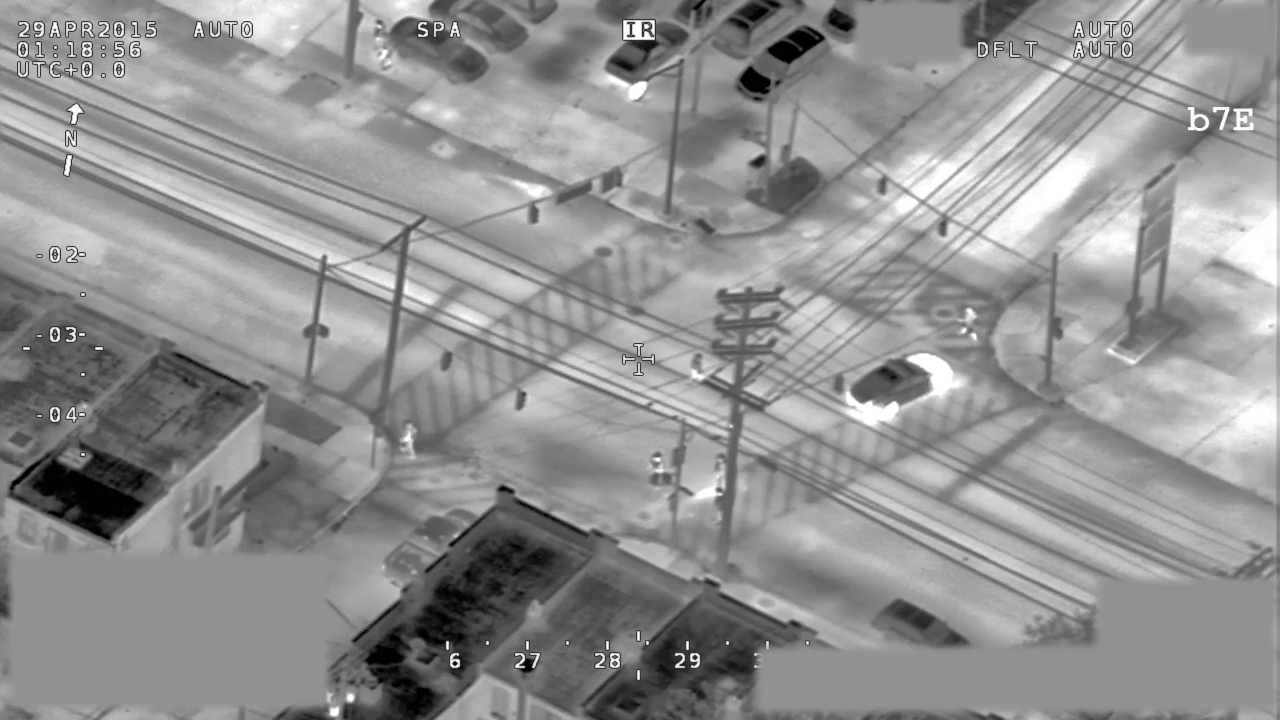vehicle: (846, 349, 956, 425), (730, 25, 833, 105), (388, 15, 493, 91), (596, 19, 692, 91), (710, 1, 808, 64), (428, 1, 533, 57), (868, 593, 976, 645)
